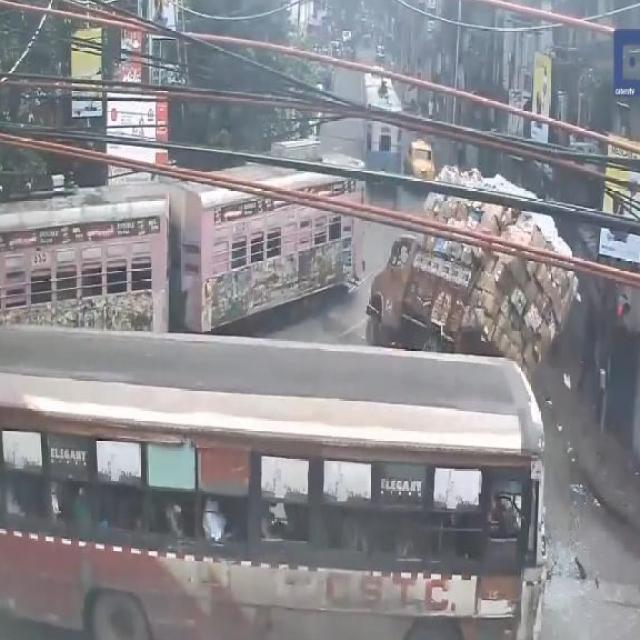accident: (361, 134, 575, 386)
